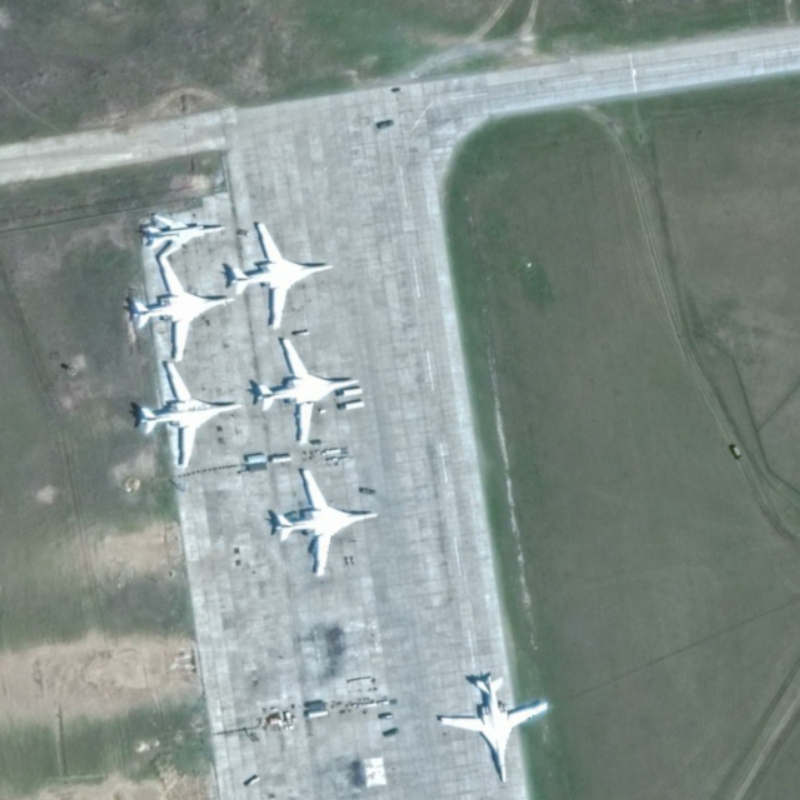A12: (139, 208, 231, 260)
A6: (269, 466, 385, 581), (438, 671, 553, 785), (253, 336, 366, 450), (134, 358, 247, 471), (226, 217, 336, 333), (125, 253, 237, 366)
